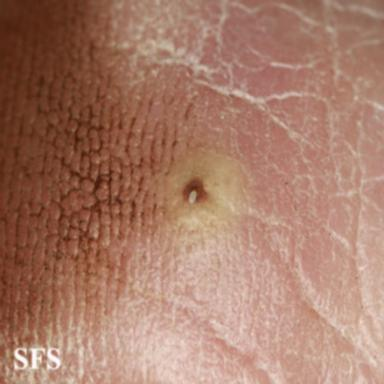Tungiasis: (157, 149, 251, 239)
